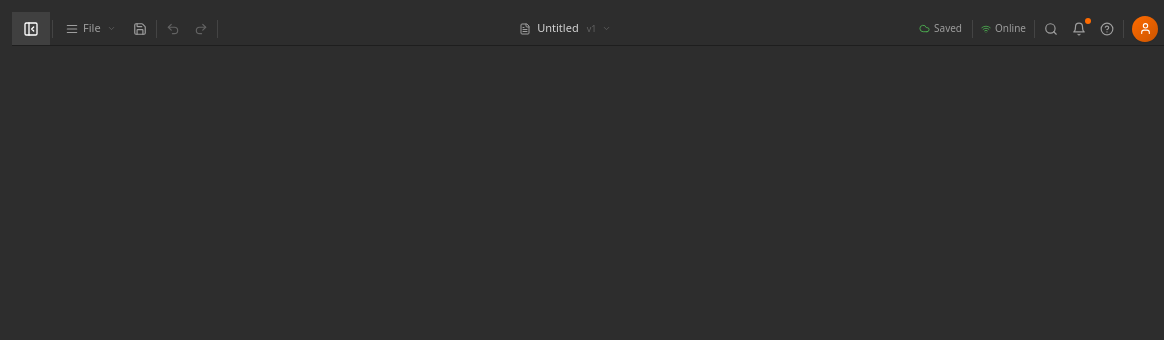
Test case: DocumentHeader › closes file menu on second click
Click the button "File" at [90, 28], box [55, 16, 126, 42]
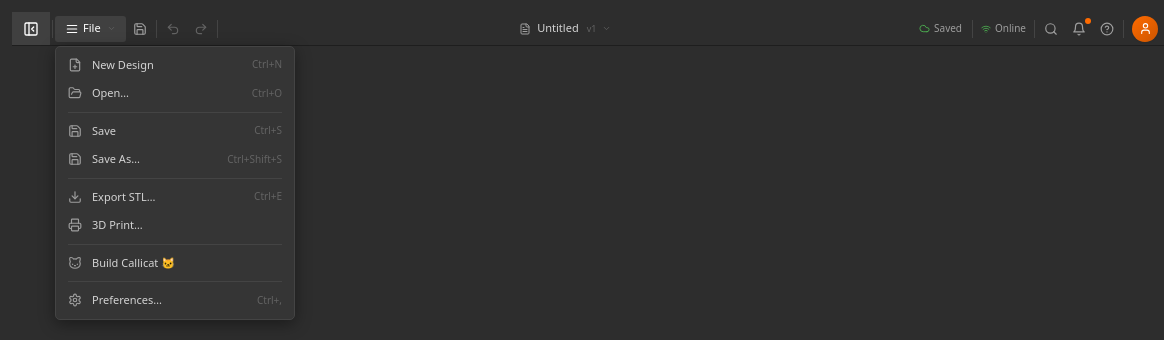
Check: the text "New Design" is shown, box [92, 56, 154, 72]
Click the button "File" at [90, 28], box [55, 16, 126, 42]
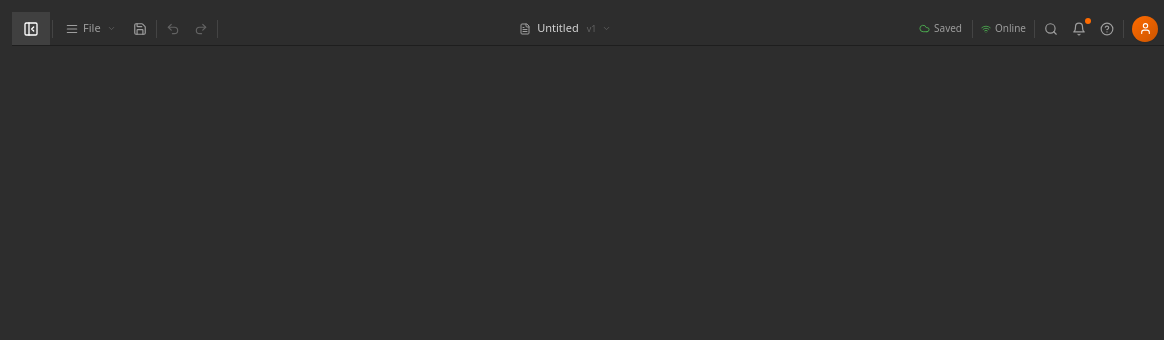
Check: the button "New Design" is gone
